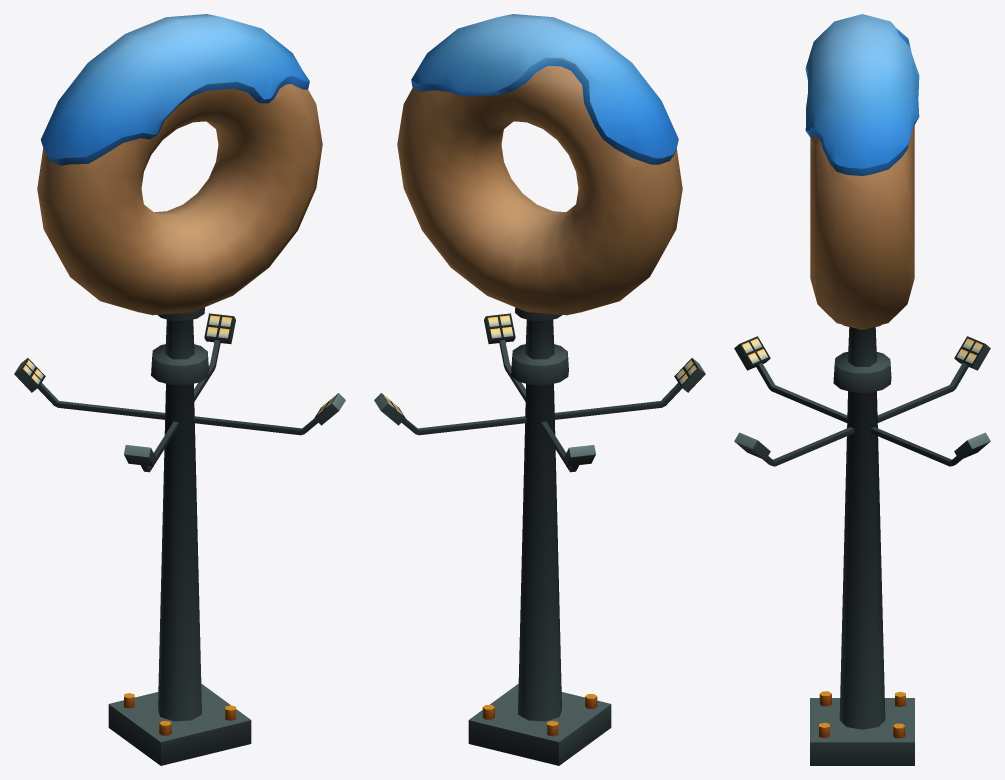
The model's file is Billboard_5A.fbx.
The picture shows the model from 3 angles, left to right: view 1: azimuth 30°, elevation 25°; view 2: azimuth 150°, elevation 25°; view 3: azimuth 270°, elevation 25°; orthographic projection.
Parts seen in each view (by area): view 1: Billboard_5A_Rotating_Donut, Billboard_5A; view 2: Billboard_5A_Rotating_Donut, Billboard_5A; view 3: Billboard_5A_Rotating_Donut, Billboard_5A.
Part boxes in pixels (x1=…): Billboard_5A_Rotating_Donut: x1=37, y1=14, x2=322, y2=321; Billboard_5A: x1=14, y1=313, x2=345, y2=765; Billboard_5A_Rotating_Donut: x1=397, y1=14, x2=682, y2=321; Billboard_5A: x1=374, y1=313, x2=705, y2=765; Billboard_5A_Rotating_Donut: x1=805, y1=14, x2=919, y2=329; Billboard_5A: x1=734, y1=327, x2=990, y2=765.
Size of the model in its own units: 599 by 1508 by 490.
